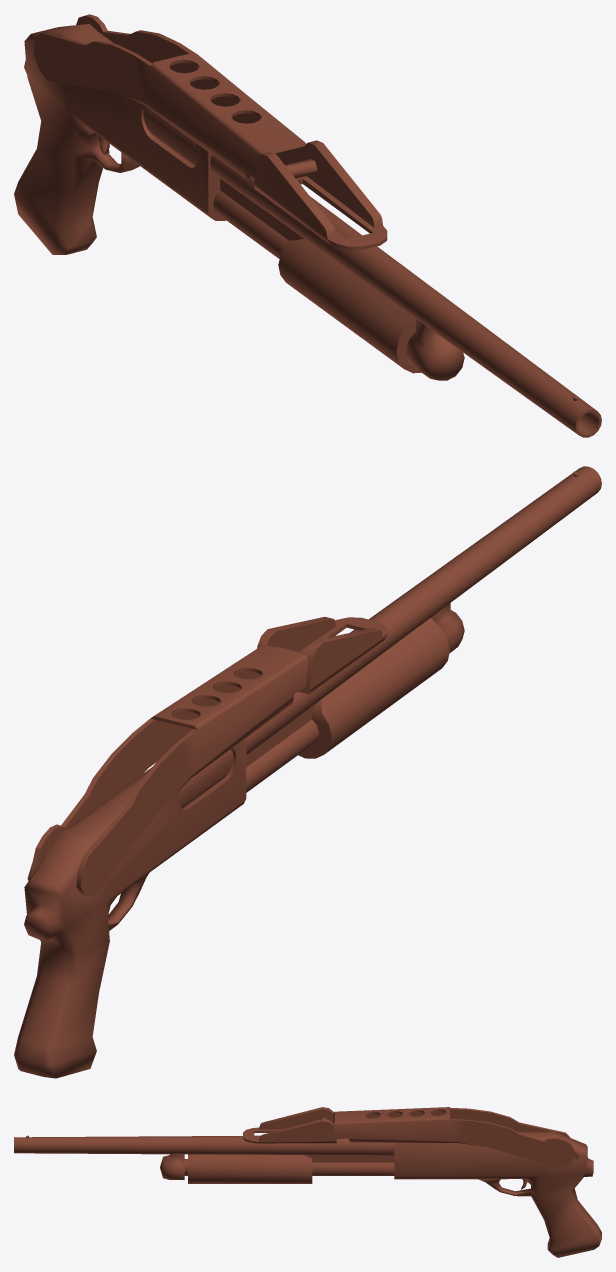
The model's file is PumpShotgun_L0.fbx.
3 views of the same model, one above another, from view 1: azimuth 30°, elevation 25°; view 2: azimuth 150°, elevation 25°; view 3: azimuth 270°, elevation 25° (orthographic). The views are drawn at different scales.
Visible parts, largest first — view 1: PumpShotgun, Handle; view 2: PumpShotgun, Handle; view 3: PumpShotgun, Handle.
Part boxes in pixels (box(x1,y1,x2,y2)): PumpShotgun: box(14, 14, 601, 437); Handle: box(143, 107, 421, 373); PumpShotgun: box(14, 466, 601, 1078); Handle: box(179, 618, 449, 808); PumpShotgun: box(14, 1107, 601, 1257); Handle: box(188, 1154, 312, 1183).
Bounding box in the file's own units: 0.0416 × 0.1917 × 0.7248.
